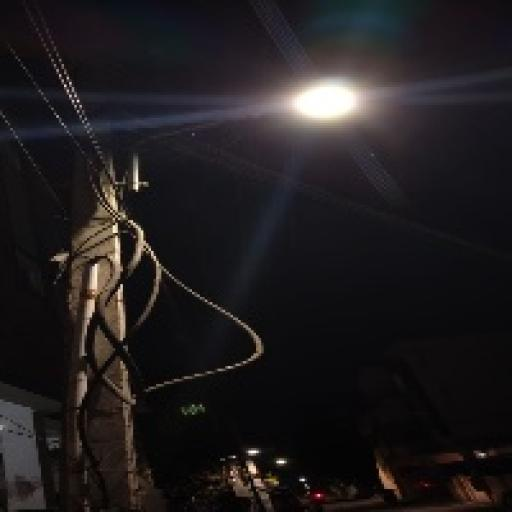Working: (281, 65, 387, 134)
